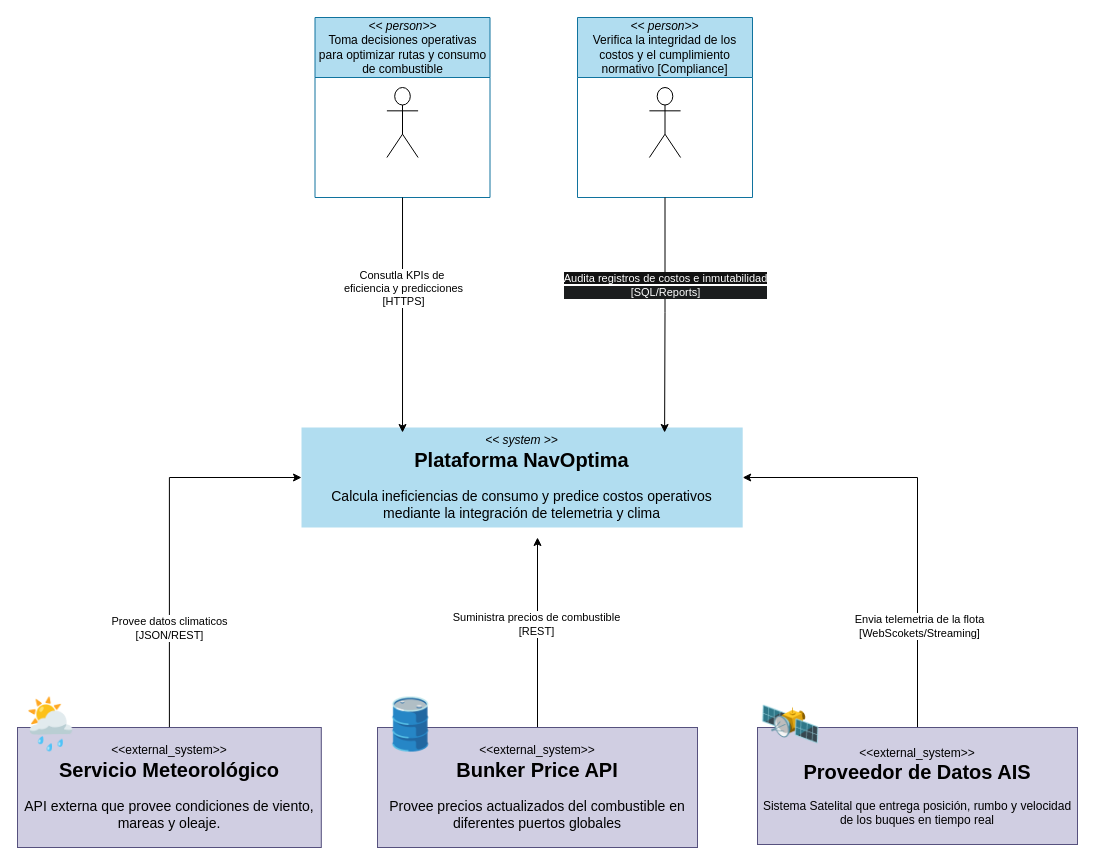
The diagram is 1095 pixels wide and 865 high, and some of its shapes have lost their labels. Each missing label, with the box of its shape:
Audtior financiero: (648, 86, 681, 158)
Gerente de Flota: (386, 86, 418, 158)
